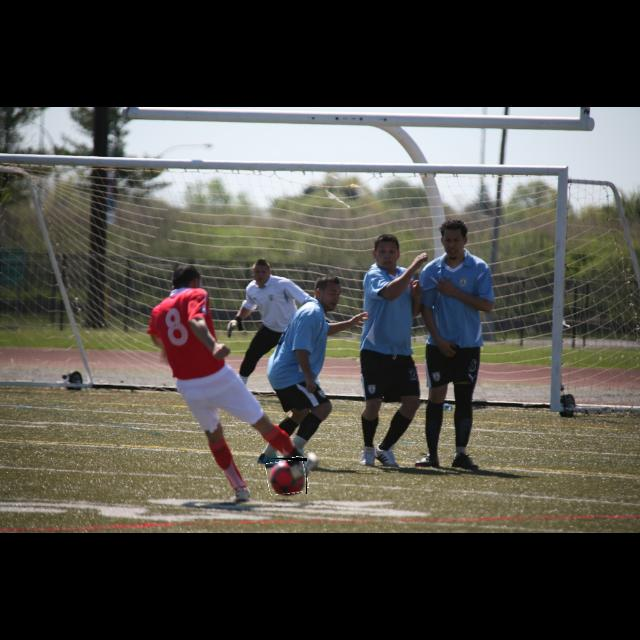Football: (267, 458, 307, 494)
